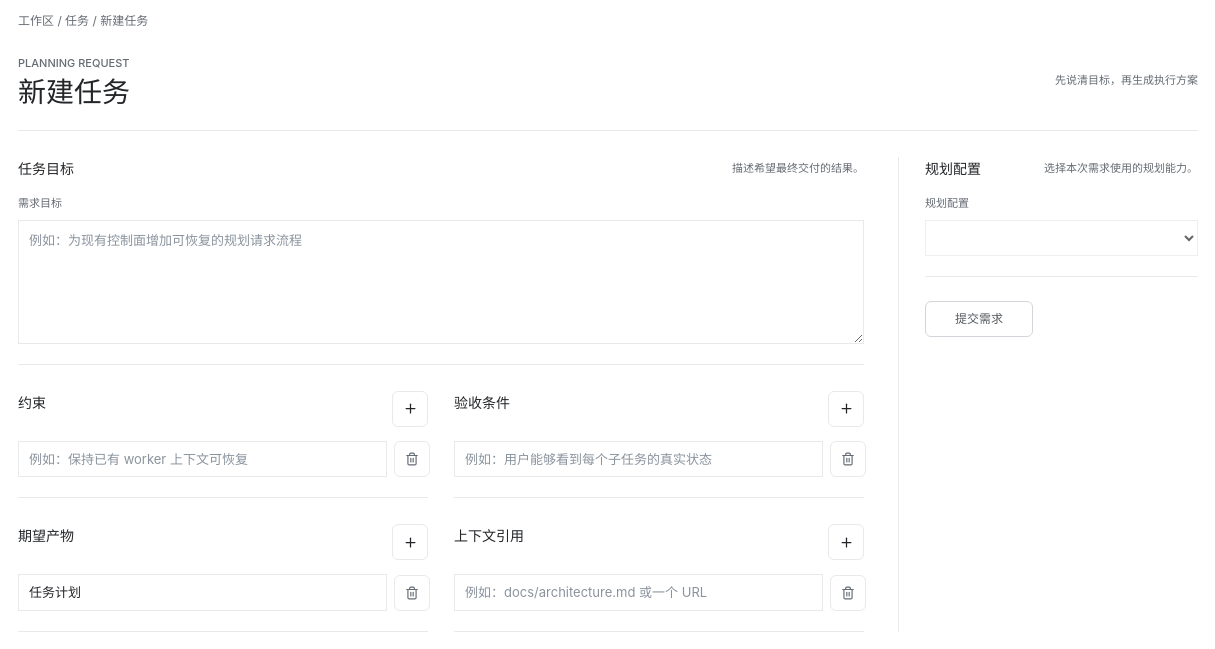
Test: PlanningBriefForm › uses the unavailable state without legacy submission for native-only policies
Expected: the dropdown labelled "规划配置" is disabled, [925,220,1198,256]
In the text box labelled "需求目标": (441, 282) [18,220,864,344], type "保留原生配置"
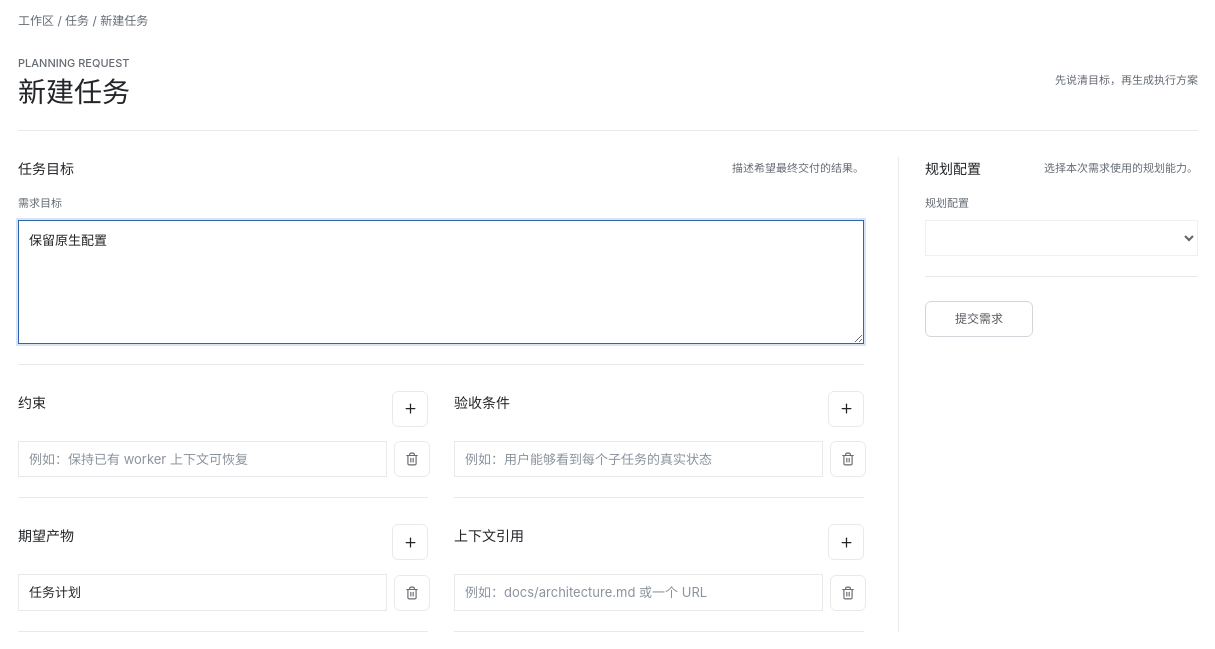
In the field named "验收条件": (638, 459) [454,440,823,477], type "不得使用旧提交命令"
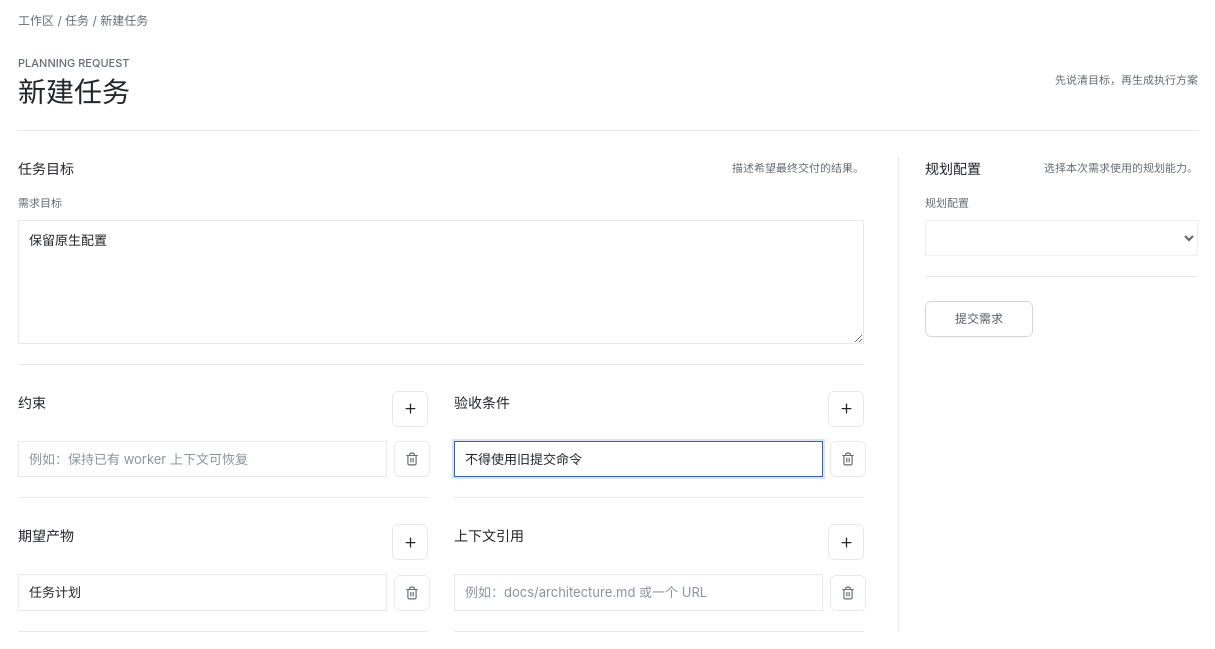
Click the button "提交需求": (979, 318) [925,300,1033,336]
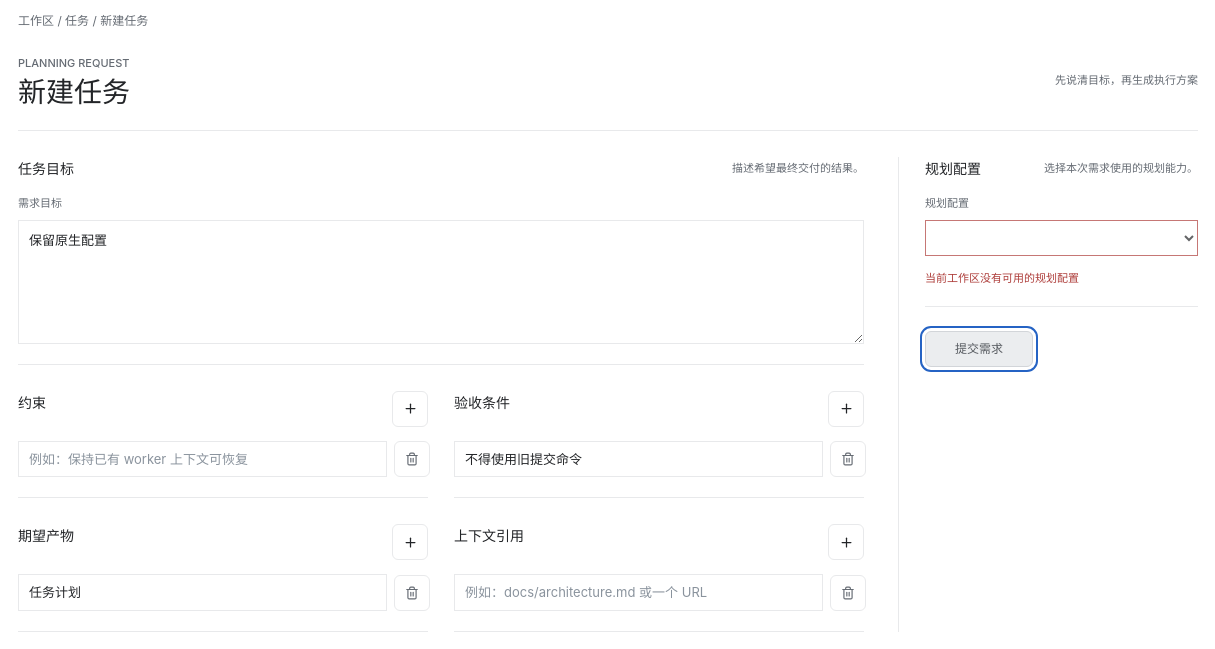
Expected: the text "当前工作区没有可用的规划配置" is shown, [925,270,1079,284]
